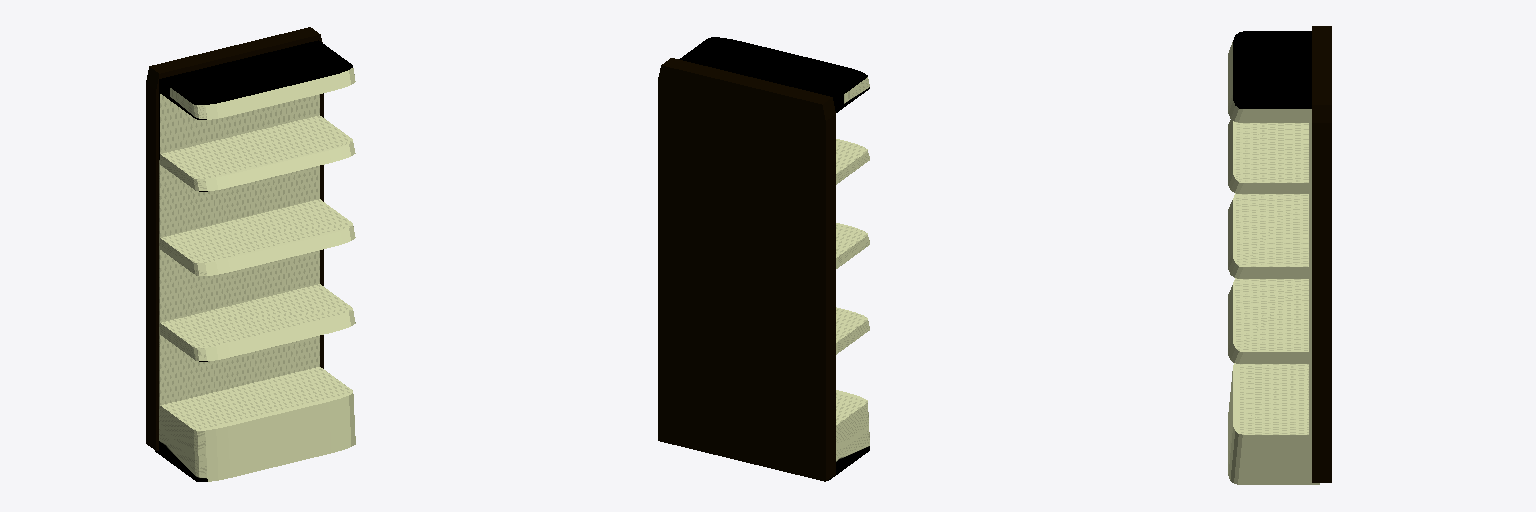
3 views of the same model, side by side, from view 1: azimuth 30°, elevation 25°; view 2: azimuth 150°, elevation 25°; view 3: azimuth 270°, elevation 25° (orthographic).
Parts seen in each view (by area): view 1: EndShelf, Divider; view 2: Divider, EndShelf; view 3: EndShelf, Divider.
Boxes of the visible parts, x1,y1,x2,y2 form: EndShelf: [155, 40, 355, 481]; Divider: [146, 27, 323, 450]; Divider: [658, 58, 835, 481]; EndShelf: [679, 37, 869, 480]; EndShelf: [1228, 31, 1319, 484]; Divider: [1312, 26, 1331, 482].
Bounding box in the file's own units: 3.48 × 7.54 × 1.88.
2 materials, 1 textured.